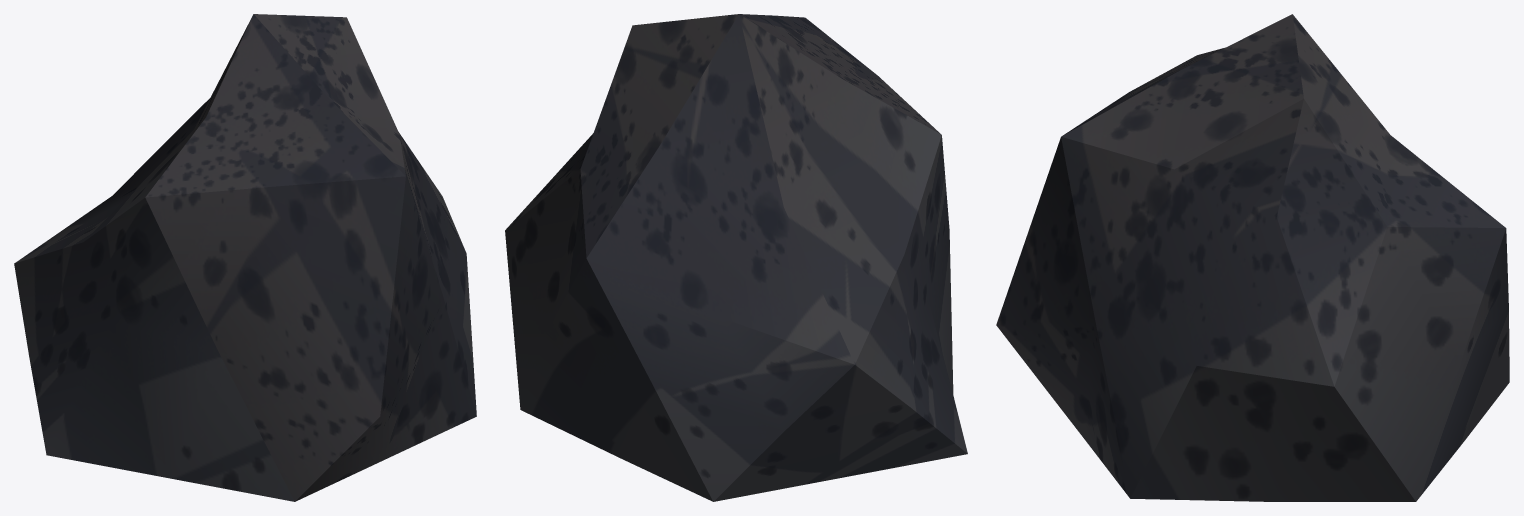
File: stone.fbx
3 views of the same model, side by side, from view 1: azimuth 30°, elevation 25°; view 2: azimuth 150°, elevation 25°; view 3: azimuth 270°, elevation 25° (orthographic). The views are drawn at different scales.
Parts seen in each view (by area): view 1: Icosphere; view 2: Icosphere; view 3: Icosphere.
Part boxes in pixels (x1,y1,x2,y2): Icosphere: [14, 14, 476, 501]; Icosphere: [505, 14, 967, 501]; Icosphere: [996, 14, 1509, 501].
Bounding box in the file's own units: 647 × 563 × 637.
1 material, 1 textured.
